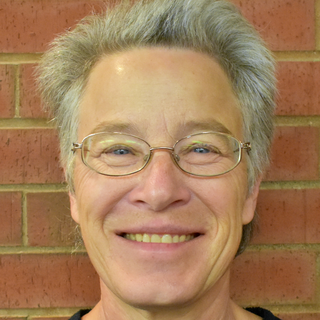eye: (180, 138, 225, 163), (98, 139, 140, 162)
